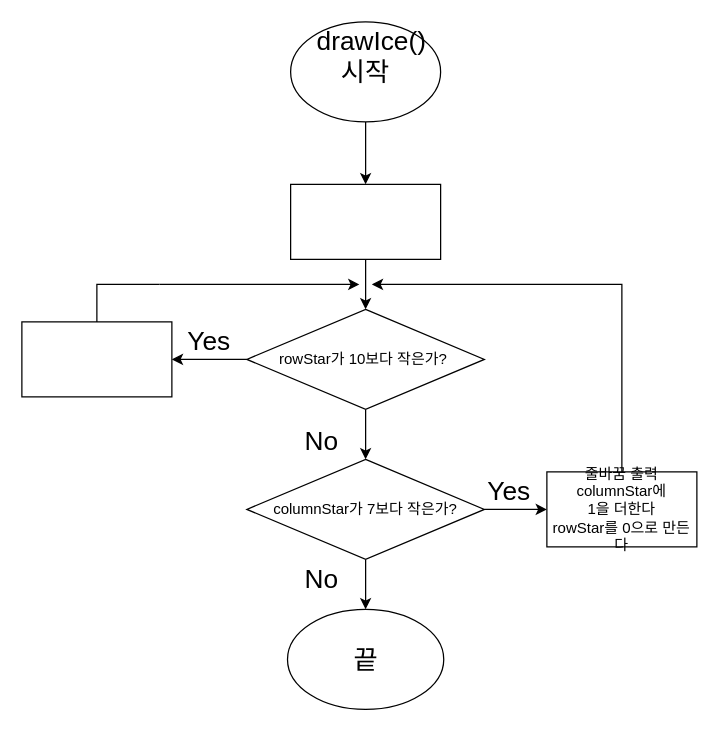
Some shapes in this 719 by 731 pixel diagram are drawn without their labels. Here are the shapes that lost their labels. From the top down, the box of each, then its label:
(289, 183, 441, 259): columnStar = 0 rowStar = 0
(21, 321, 172, 397): *출력 (줄바꿈 x) rowStar에 1을 더한다
